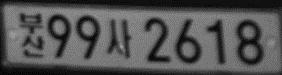1: (206, 19, 231, 64)
2: (144, 17, 171, 61)
6: (175, 17, 201, 63)
8: (236, 19, 263, 65)
9: (75, 14, 101, 59), (47, 13, 71, 58)
부산_V: (19, 13, 45, 57)
사: (107, 19, 131, 58)
